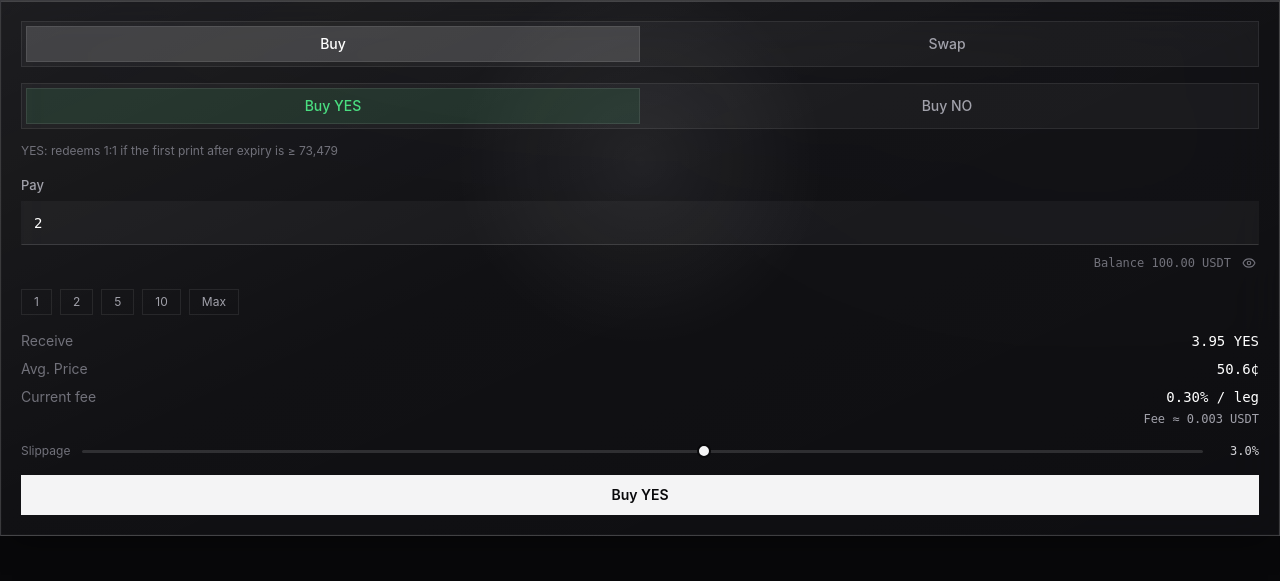
TradeDesk 报价展示 › 池子极浅 / 大单时给出价格冲击警告
Replace the text in the field with "50". click: [640, 223]
box: [21,201,1259,245]
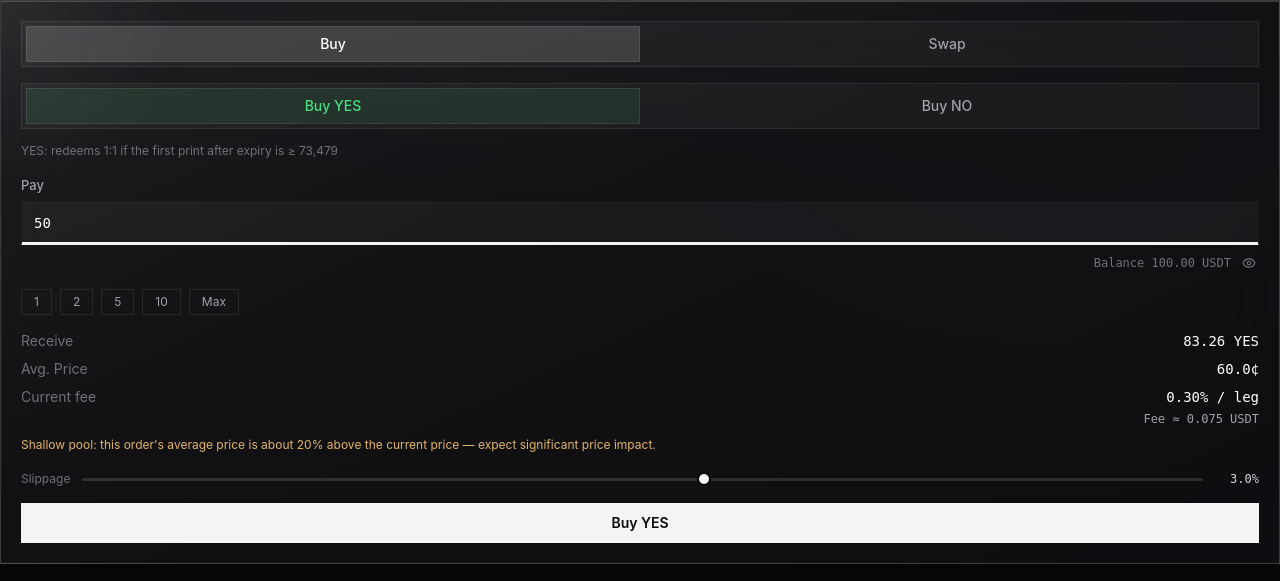
Result: the text "Shallow pool" is shown at [21,437,656,452]
